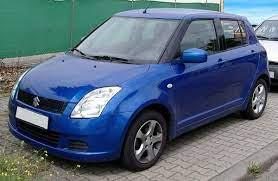Hatchback: (7, 6, 271, 169), (252, 17, 278, 91)
